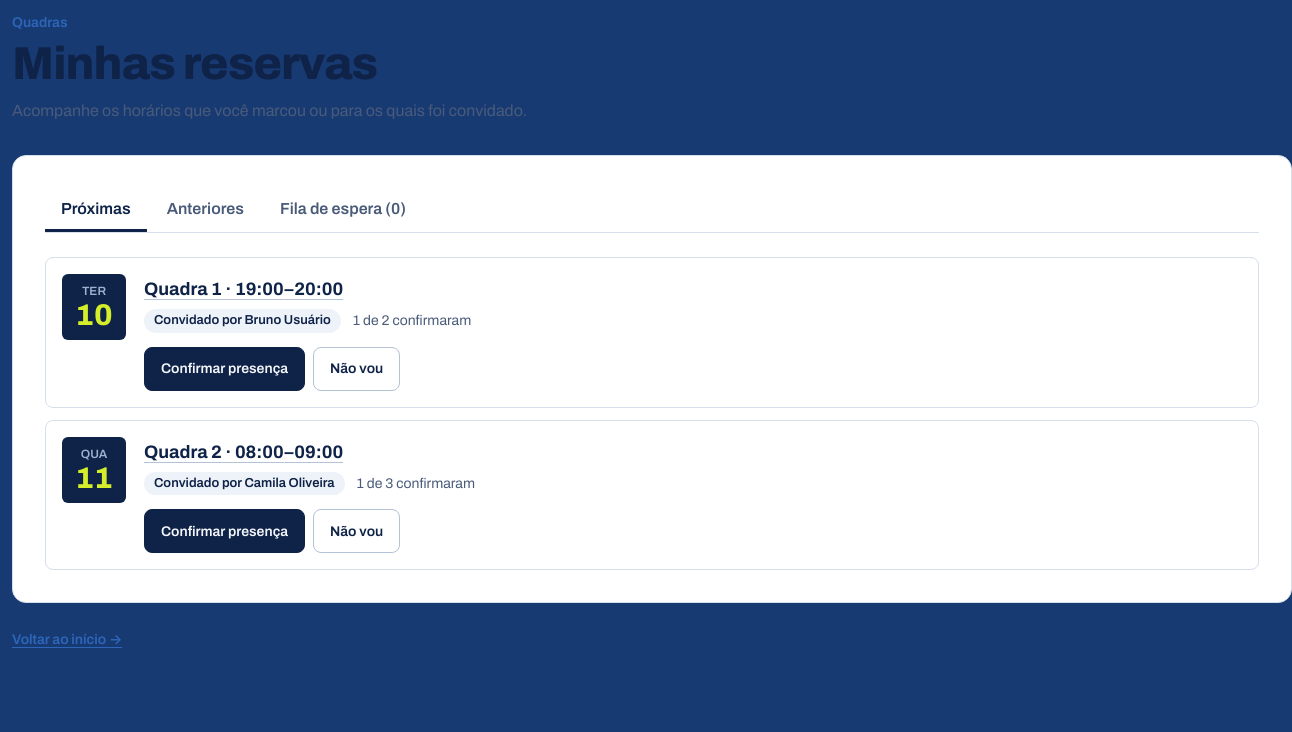
BookingsPage presença › duas respostas rápidas em cards diferentes ficam as duas
Click the button "Confirmar presença" below "Convidado por Bruno Usuário" at (225, 369), box [144, 347, 305, 391]
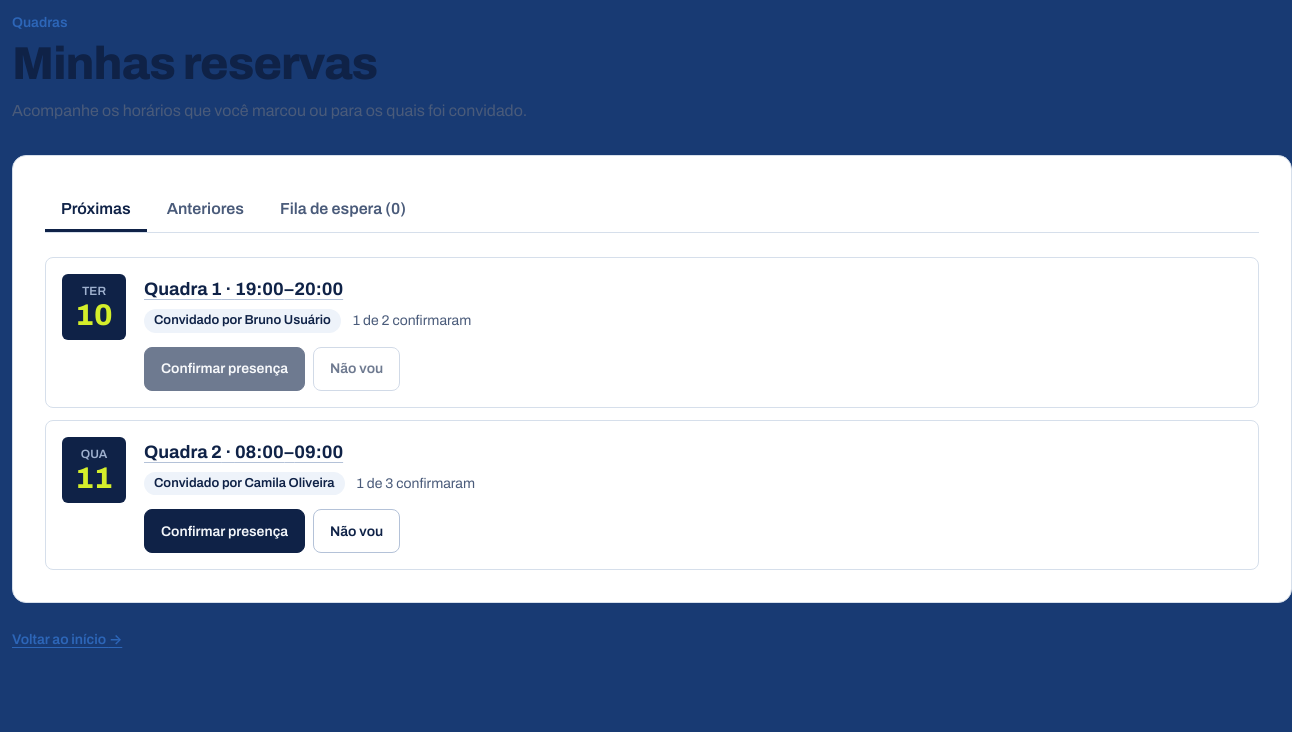
Click the button "Confirmar presença" below "Convidado por Camila Oliveira" at (225, 531), box [144, 509, 305, 553]
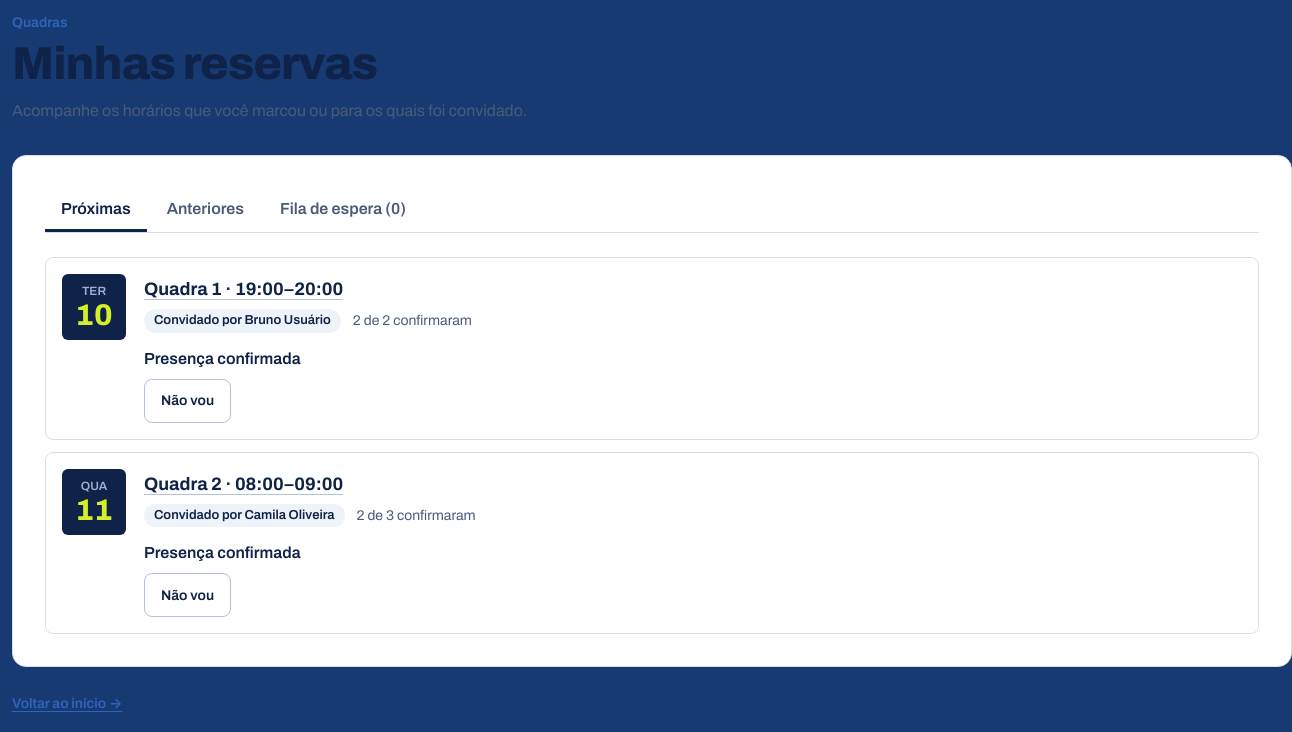
Expected: the text "Presença confirmada" below "Convidado por Bruno Usuário" is shown, [144, 350, 301, 367]
Expected: the text "Presença confirmada" below "Convidado por Camila Oliveira" is shown, [144, 544, 301, 561]
